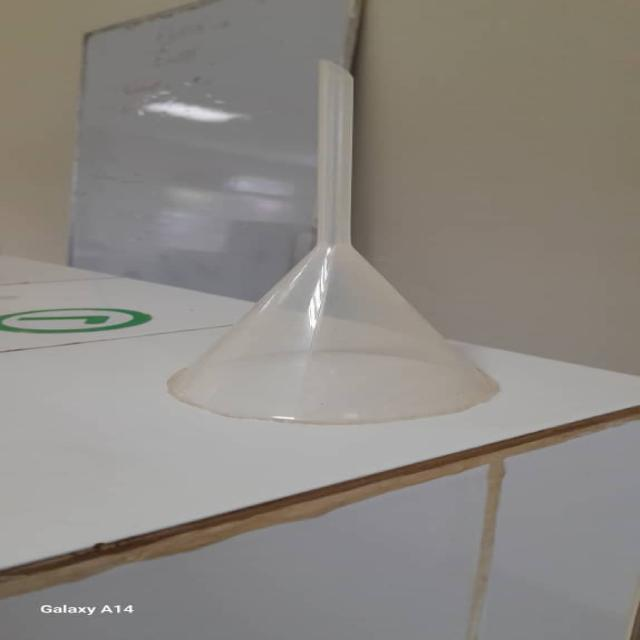Funnel: (172, 72, 496, 427)
